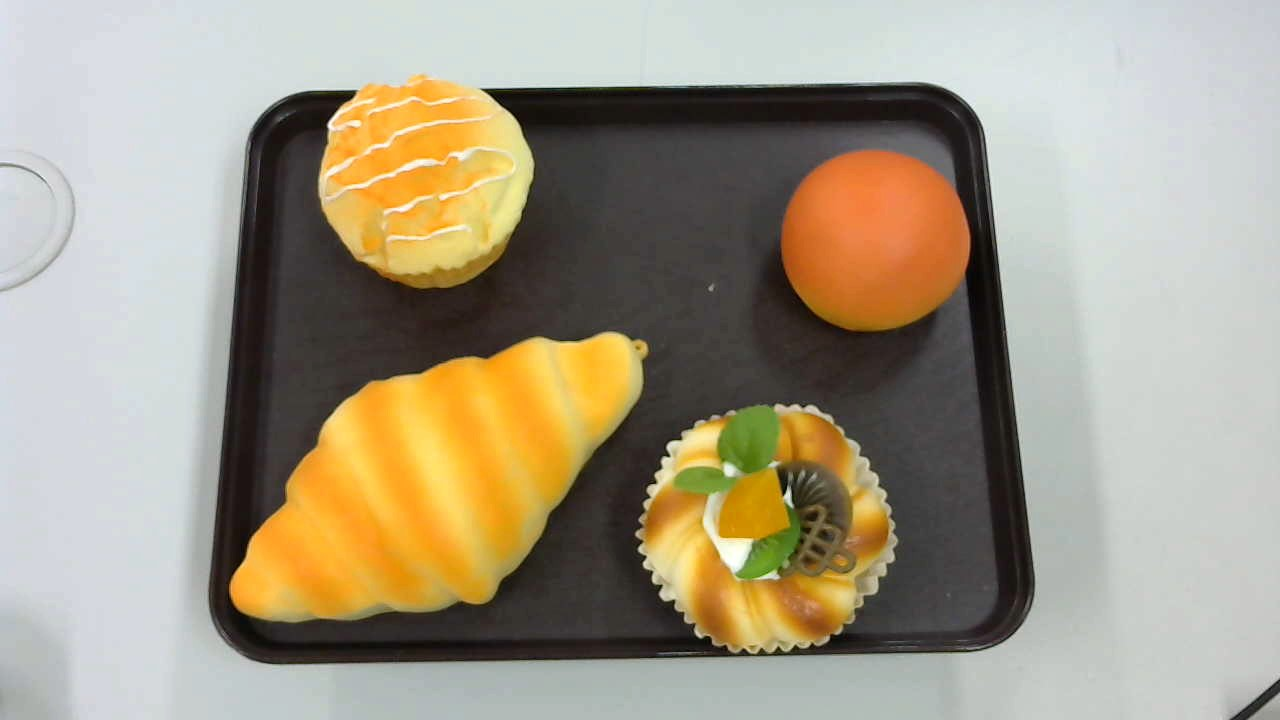bun: (779, 149, 971, 330)
croissant: (229, 331, 651, 625)
cupcake: (319, 74, 537, 291)
fruit tart: (637, 402, 898, 653)
